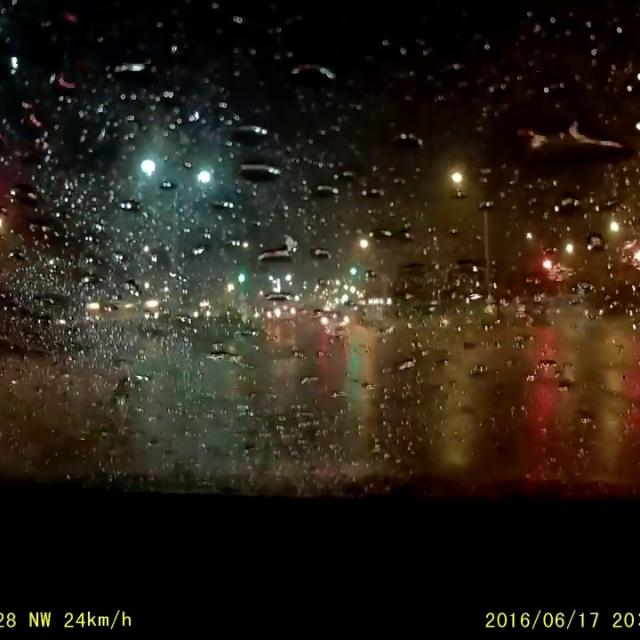Car: (0, 297, 138, 463), (315, 306, 347, 339)
